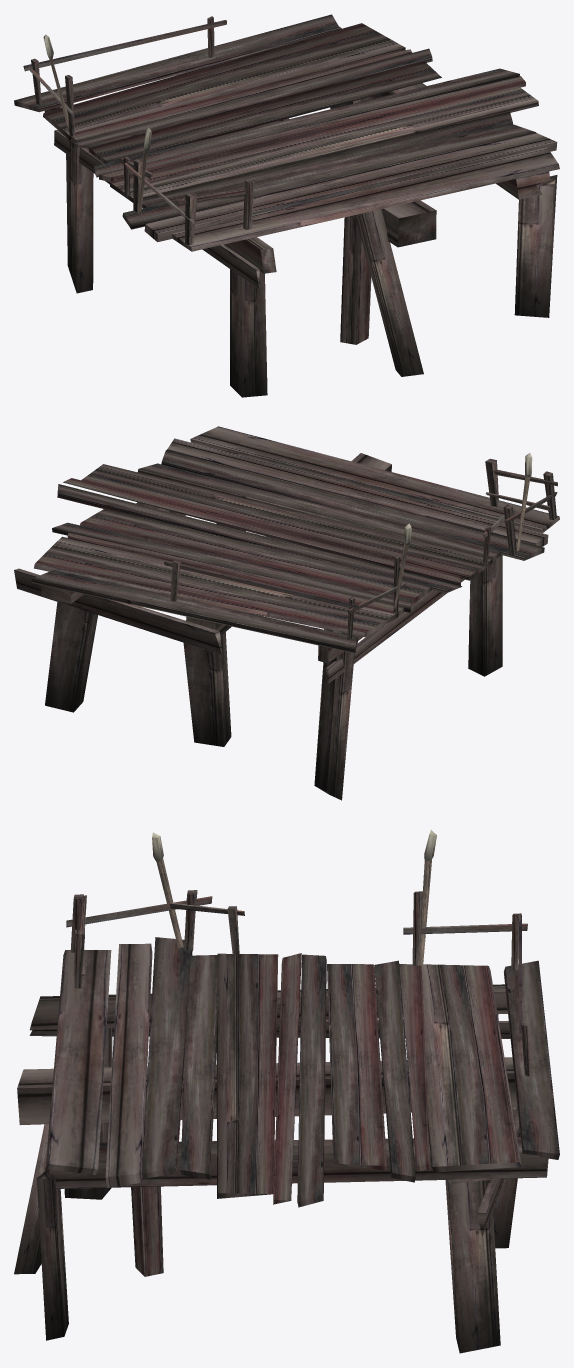
Rendered from pir_m_prp_swm_platform_norails.fbx.
3 renders of one model, top to bottom at view 1: azimuth 30°, elevation 25°; view 2: azimuth 150°, elevation 25°; view 3: azimuth 270°, elevation 25°, orthographic. The views are drawn at different scales.
Parts seen in each view (by area): view 1: TablePlank54, TablePlank43, TablePlank56, TablePlank48, TablePlank41, TablePlank55, TablePlank42, TablePlank46, TablePlank53, walkwayPost4, walkwayPost1, plank13 (+12 smaller); view 2: TablePlank54, TablePlank43, TablePlank56, TablePlank48, TablePlank42, TablePlank55, TablePlank41, TablePlank53, TablePlank46, plank14, plank16, plank12 (+11 smaller); view 3: TablePlank54, TablePlank43, TablePlank56, TablePlank48, TablePlank41, TablePlank42, plank14, TablePlank53, TablePlank55, TablePlank46, plank15, TablePlank49 (+15 smaller).
Part boxes in pixels (x1,y1,x2,y2): TablePlank54: [43, 23, 405, 140]; TablePlank43: [109, 84, 538, 202]; TablePlank56: [172, 147, 559, 251]; TablePlank48: [89, 61, 441, 163]; TablePlank41: [144, 133, 557, 242]; TablePlank55: [14, 14, 339, 112]; TablePlank42: [122, 124, 536, 229]; TablePlank46: [93, 68, 519, 177]; TablePlank53: [142, 111, 512, 208]; walkwayPost4: [514, 175, 557, 317]; walkwayPost1: [355, 209, 423, 376]; plank13: [230, 269, 267, 397]; TablePlank54: [34, 536, 398, 637]; TablePlank43: [81, 464, 492, 580]; TablePlank56: [190, 426, 559, 533]; TablePlank48: [80, 508, 431, 603]; TablePlank42: [161, 450, 544, 560]; TablePlank55: [31, 570, 357, 653]; TablePlank41: [167, 438, 548, 546]; TablePlank53: [138, 463, 501, 560]; TablePlank46: [57, 484, 462, 593]; plank14: [45, 602, 97, 712]; plank16: [183, 632, 231, 746]; plank12: [314, 651, 354, 800]; TablePlank54: [421, 964, 521, 1172]; TablePlank43: [216, 953, 278, 1198]; TablePlank56: [45, 950, 111, 1174]; TablePlank48: [327, 964, 387, 1170]; TablePlank41: [105, 943, 152, 1187]; TablePlank42: [141, 937, 192, 1179]; plank14: [445, 1178, 500, 1353]; TablePlank53: [180, 955, 219, 1179]; TablePlank55: [504, 960, 559, 1159]; TablePlank46: [297, 954, 326, 1207]; plank15: [45, 1137, 548, 1188]; TablePlank49: [374, 960, 415, 1182].
Bounding box in the file's own units: 5378 × 3291 × 4685.
Materials: 2 (2 with a texture image).
